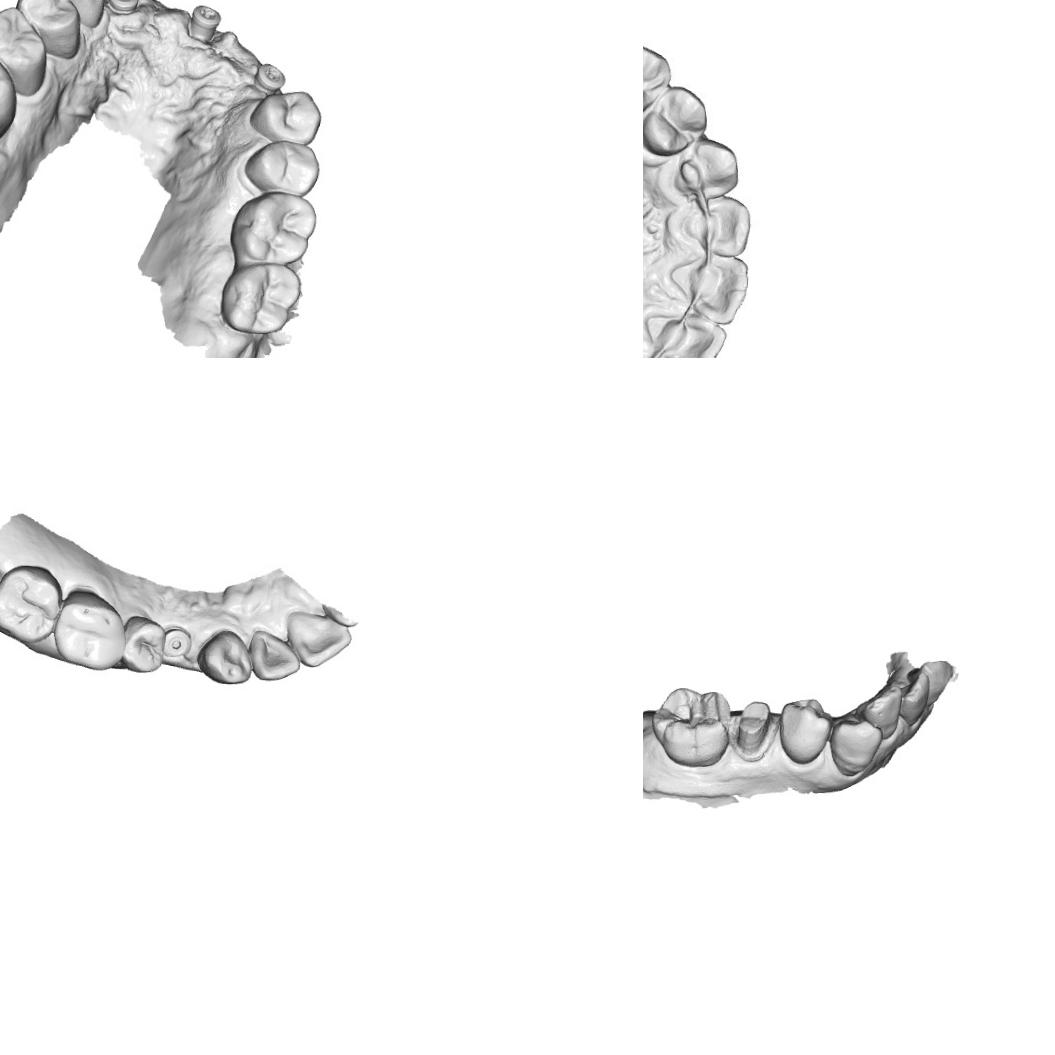canine: (680, 136, 740, 204), (194, 628, 253, 687), (828, 718, 882, 778), (54, 0, 112, 18)
crown: (728, 690, 778, 766)
implant: (161, 624, 192, 657)
implant_minus: (109, 0, 141, 14)
implant_plus: (182, 2, 222, 44), (256, 60, 284, 89)
incisor: (674, 254, 748, 326), (670, 195, 750, 255), (284, 608, 355, 671), (647, 316, 725, 358), (248, 627, 304, 683), (859, 682, 902, 740), (896, 672, 932, 724), (921, 660, 954, 702)
molar: (228, 190, 317, 266), (650, 686, 730, 769), (50, 588, 128, 672), (218, 261, 304, 336), (0, 560, 65, 642), (0, 44, 18, 139)
premolar: (241, 138, 322, 198), (643, 87, 703, 160), (248, 88, 324, 145), (777, 696, 834, 768), (0, 4, 48, 71), (119, 614, 168, 676), (14, 0, 82, 43), (643, 43, 672, 115)
